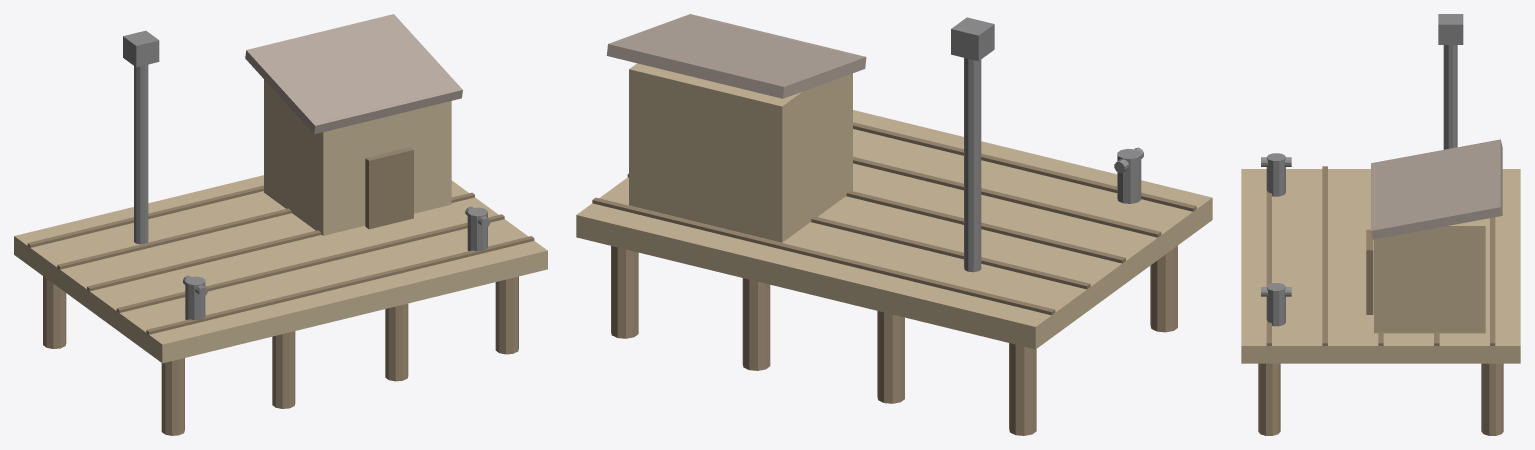
File: PIER.glb
3 renders of one model, left to right at view 1: azimuth 30°, elevation 25°; view 2: azimuth 150°, elevation 25°; view 3: azimuth 270°, elevation 25°, orthographic. The views are drawn at different scales.
Parts seen in each view (by area): view 1: PIER; view 2: PIER; view 3: PIER.
Part boxes in pixels (bbox=[...]): PIER: bbox=[14, 14, 547, 435]; PIER: bbox=[576, 14, 1212, 435]; PIER: bbox=[1241, 14, 1520, 435].
Bounding box in the file's own units: 3 × 2.28 × 2.
